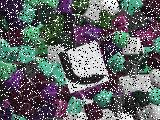Left: (58, 40, 110, 94)
